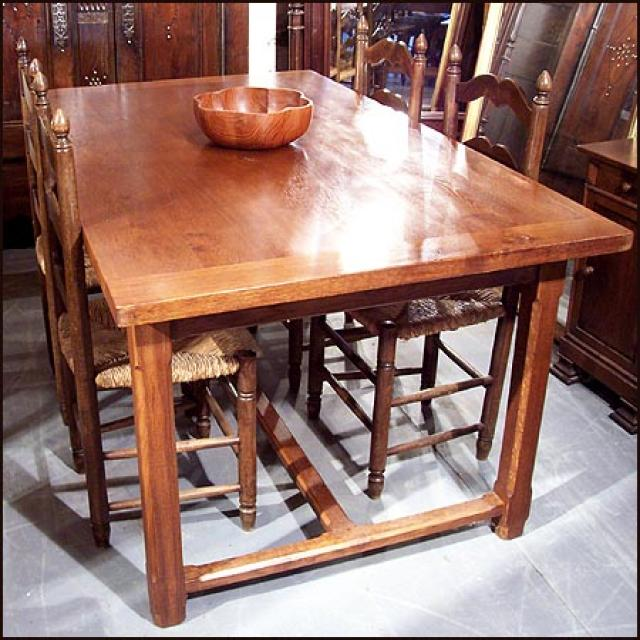table: (20, 65, 634, 630)
